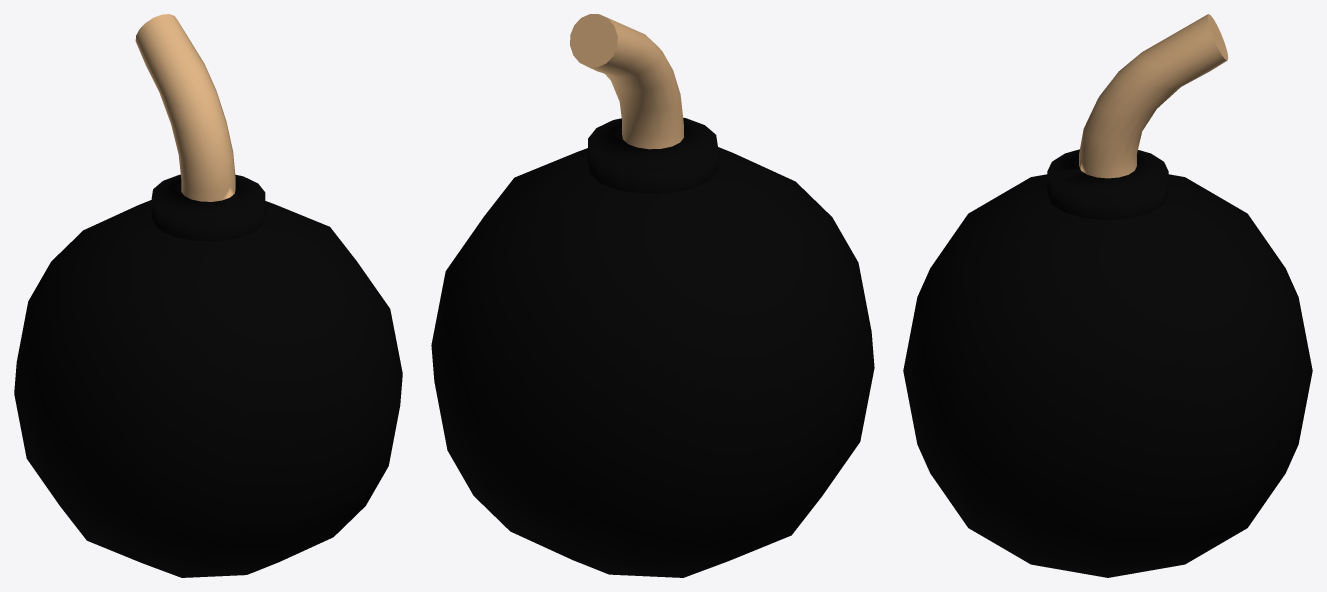
File: Bomb.glb
3 renders of one model, left to right at view 1: azimuth 30°, elevation 25°; view 2: azimuth 150°, elevation 25°; view 3: azimuth 270°, elevation 25°, orthographic. The views are drawn at different scales.
Visible parts, largest first — view 1: Bomb; view 2: Bomb; view 3: Bomb.
Part boxes in pixels (x1,y1,x2,y2): Bomb: (14, 14, 402, 577); Bomb: (431, 14, 874, 577); Bomb: (903, 14, 1312, 577).
Size of the model in its own units: 1.68 by 2.44 by 1.68.
